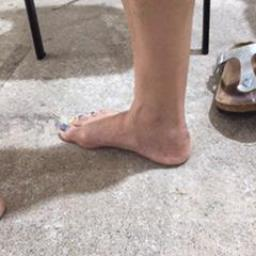Medial View -Right Foot-: (54, 72, 198, 172)
